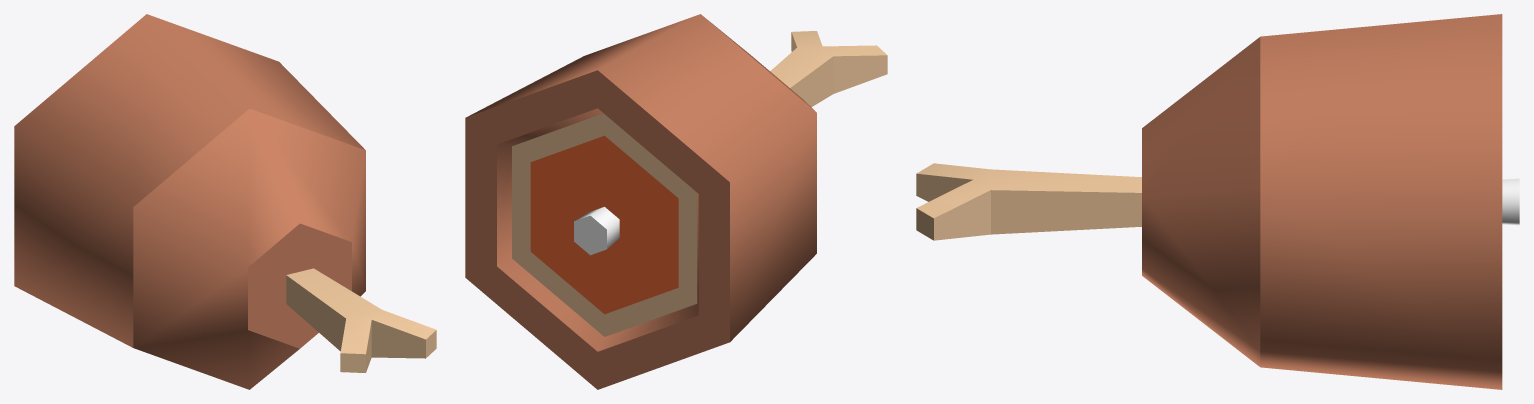
Rendered from wholeHam.GLB.
3 views of the same model, side by side, from view 1: azimuth 30°, elevation 25°; view 2: azimuth 150°, elevation 25°; view 3: azimuth 270°, elevation 25° (orthographic). The views are drawn at different scales.
Parts seen in each view (by area): view 1: wholeHam; view 2: wholeHam; view 3: wholeHam.
Boxes of the visible parts, x1=… form: wholeHam: x1=14, y1=14, x2=436, y2=389; wholeHam: x1=465, y1=14, x2=887, y2=389; wholeHam: x1=916, y1=14, x2=1519, y2=389.
Bounding box in the file's own units: 0.3809 × 0.4399 × 0.6397.
